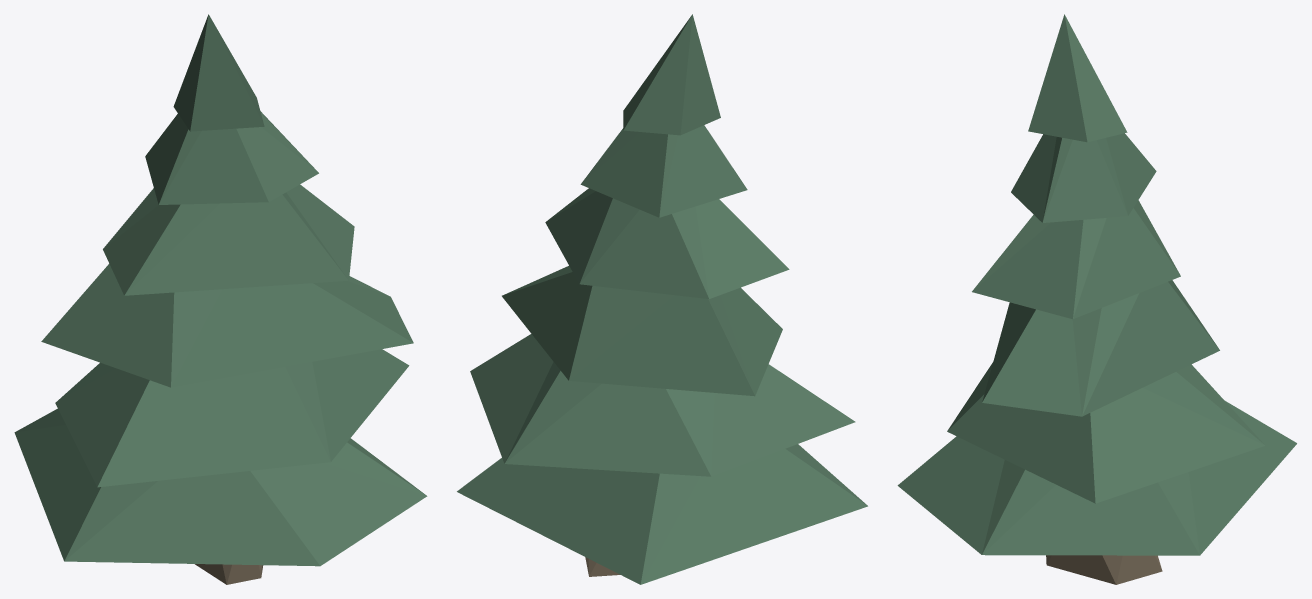
The model's file is tree01.fbx.
3 renders of one model, left to right at view 1: azimuth 30°, elevation 25°; view 2: azimuth 150°, elevation 25°; view 3: azimuth 270°, elevation 25°, orthographic. The views are drawn at different scales.
Parts seen in each view (by area): view 1: Model; view 2: Model; view 3: Model.
Part boxes in pixels (x1,y1,x2,y2): Model: [14, 14, 427, 584]; Model: [457, 14, 867, 584]; Model: [897, 14, 1296, 584].
Size of the model in its own units: 3.62 by 5.14 by 3.51.
